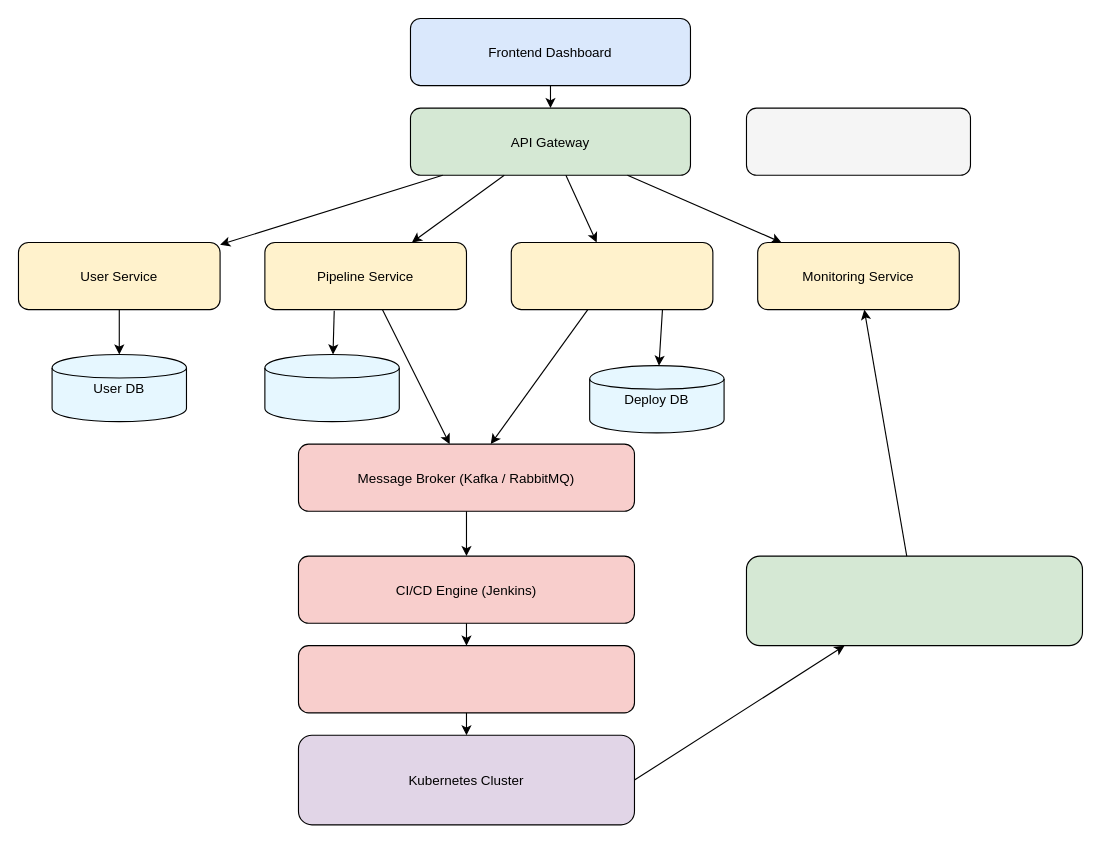
The diagram is 1101 pixels wide and 843 high, and some of its shapes have lost their labels. The shapes that lost their labels are listed below. From the top down, each one's box as (x1, y1, x2, y2) in pixels, then its label:
(745, 107, 970, 175): Service Registry
(510, 241, 713, 310): Deployment Service
(264, 353, 399, 422): Pipeline DB
(745, 555, 1082, 646): Logging & Monitoring (ELK / Prometheus)
(297, 645, 634, 713): Docker Engine
